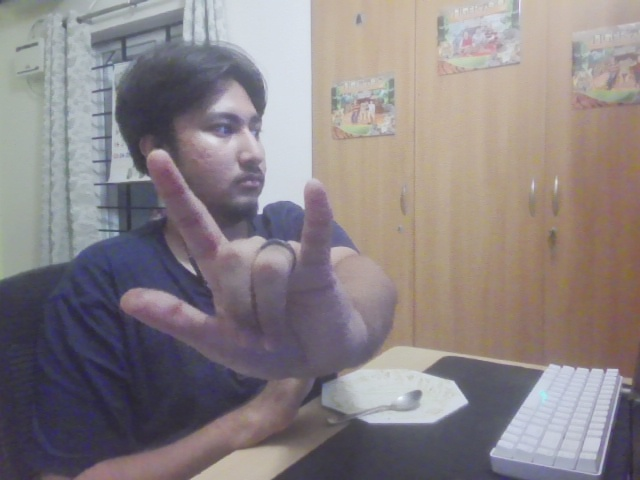iloveyou: (117, 144, 360, 390)
